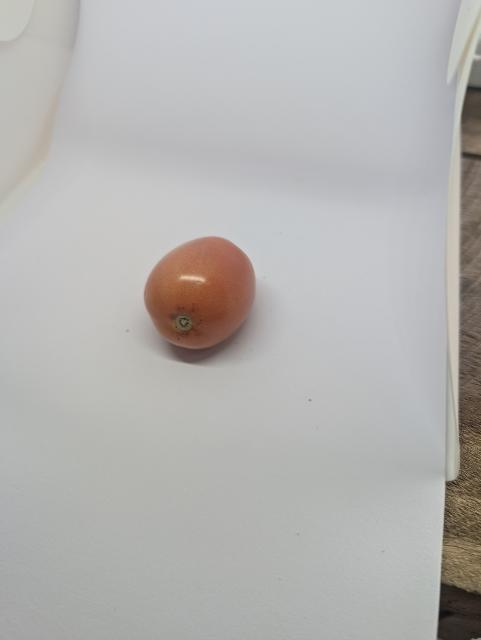red: (135, 230, 260, 355)
